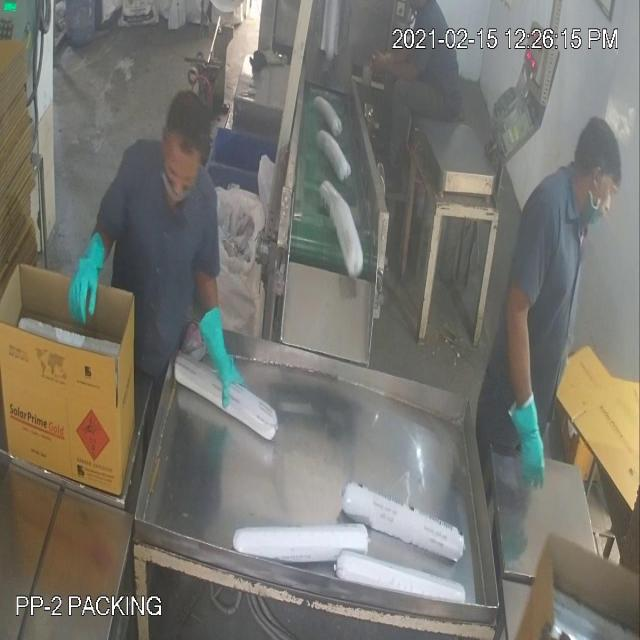gloves: (55, 215, 111, 331), (198, 288, 244, 414), (508, 375, 546, 488)
no-gloves: (362, 42, 422, 92)
